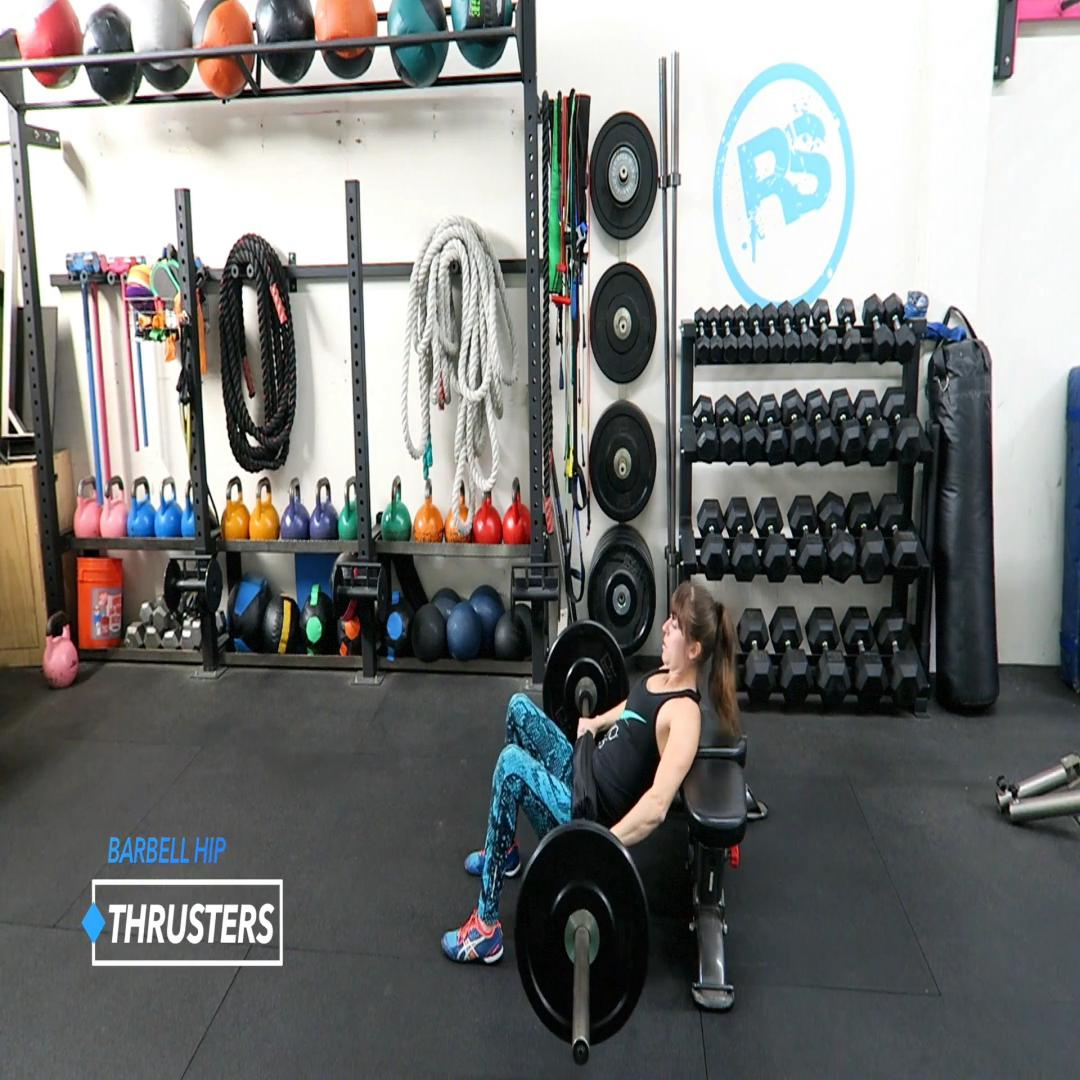Bar: (572, 1038, 590, 1068)
Barbell: (514, 826, 649, 1046)
